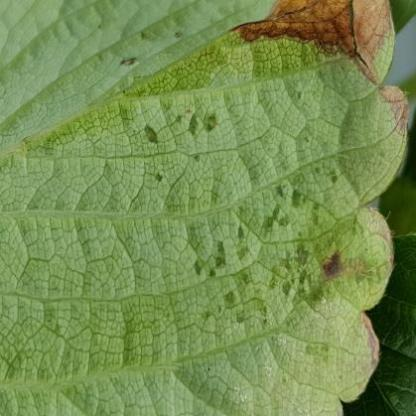Strawberry_Angular_LeafSpot: (82, 0, 410, 392)
